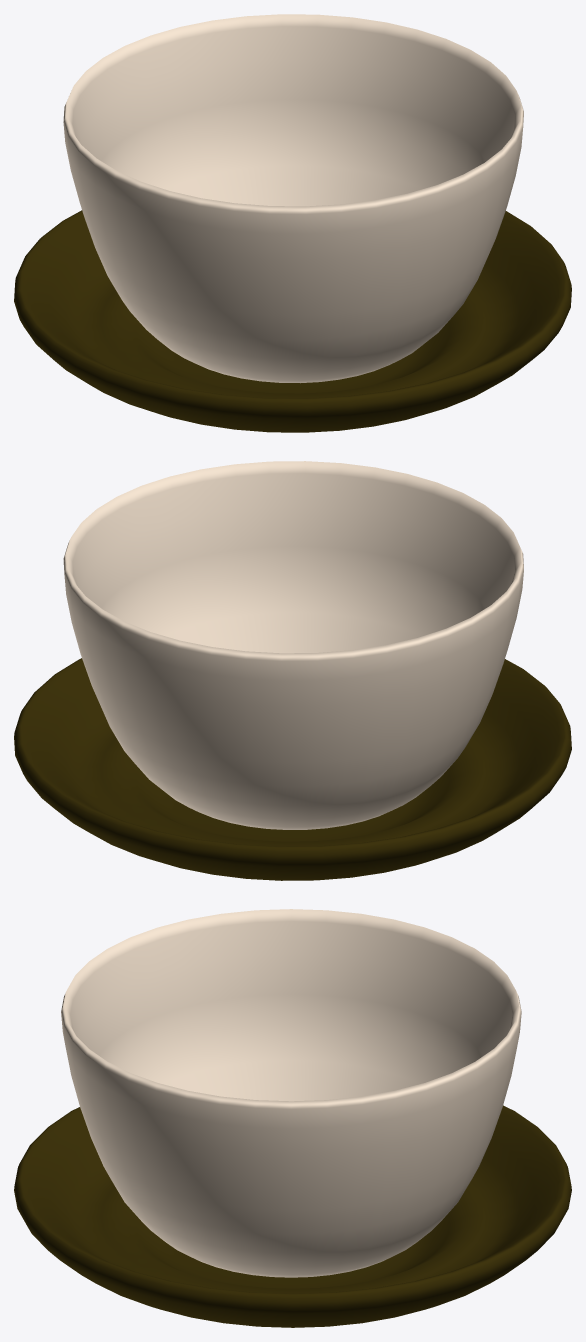
Rendered from cup3_fbx 2.fbx.
3 views of the same model, one above another, from view 1: azimuth 30°, elevation 25°; view 2: azimuth 150°, elevation 25°; view 3: azimuth 270°, elevation 25° (orthographic).
Visible parts, largest first — view 1: cup3, cup4_buttom; view 2: cup3, cup4_buttom; view 3: cup3, cup4_buttom.
Boxes of the visible parts, bbox=[...] form: cup3: bbox=[63, 14, 523, 383]; cup4_buttom: bbox=[14, 210, 571, 432]; cup3: bbox=[63, 461, 523, 829]; cup4_buttom: bbox=[14, 658, 571, 880]; cup3: bbox=[61, 909, 521, 1277]; cup4_buttom: bbox=[14, 1105, 571, 1327].
Bounding box in the file's own units: 1.42 × 0.7071 × 1.42.
